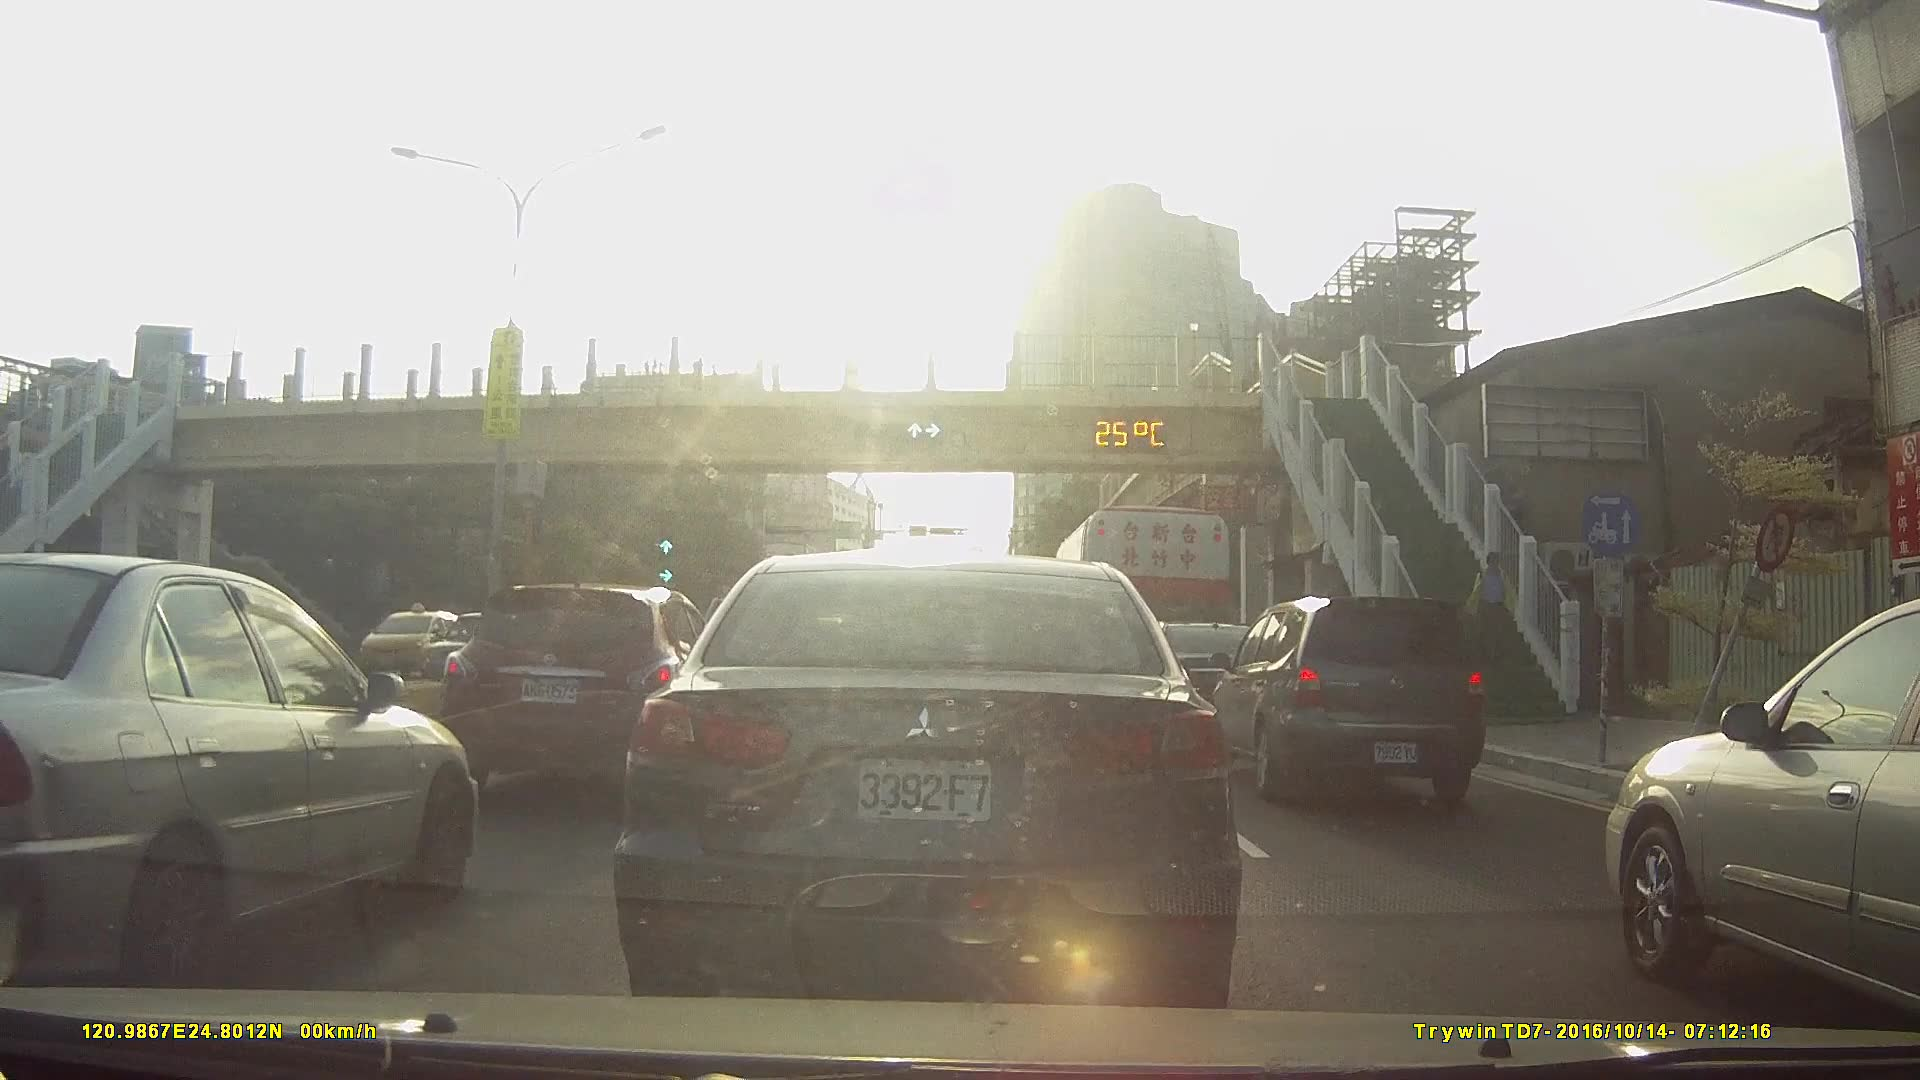pedestrian: (1468, 547, 1517, 654)
vehicle: (611, 552, 1244, 1003), (1, 552, 485, 989), (1591, 594, 1920, 1015), (1205, 595, 1499, 805), (443, 581, 727, 792), (1106, 615, 1282, 735), (358, 609, 474, 689), (409, 611, 520, 683)
